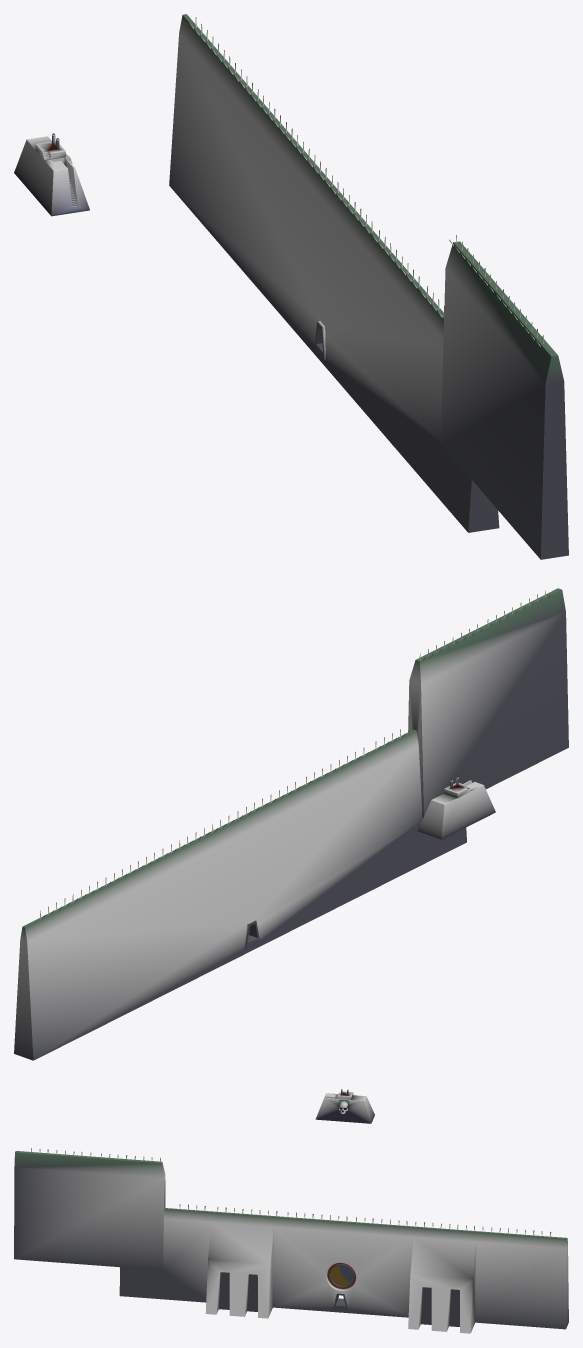
Rendered from ANTIC-WALL.glb.
3 renders of one model, top to bottom at view 1: azimuth 30°, elevation 25°; view 2: azimuth 150°, elevation 25°; view 3: azimuth 270°, elevation 25°, orthographic. The views are drawn at different scales.
Visible parts, largest first — view 1: 16-ANTIC-WALL; view 2: 16-ANTIC-WALL; view 3: 16-ANTIC-WALL.
Part boxes in pixels (x1,y1,x2,y2): 16-ANTIC-WALL: (14,14,568,559); 16-ANTIC-WALL: (14,588,568,1060); 16-ANTIC-WALL: (14,1089,568,1333).
Size of the model in its own units: 81.89 by 55.79 by 188.
